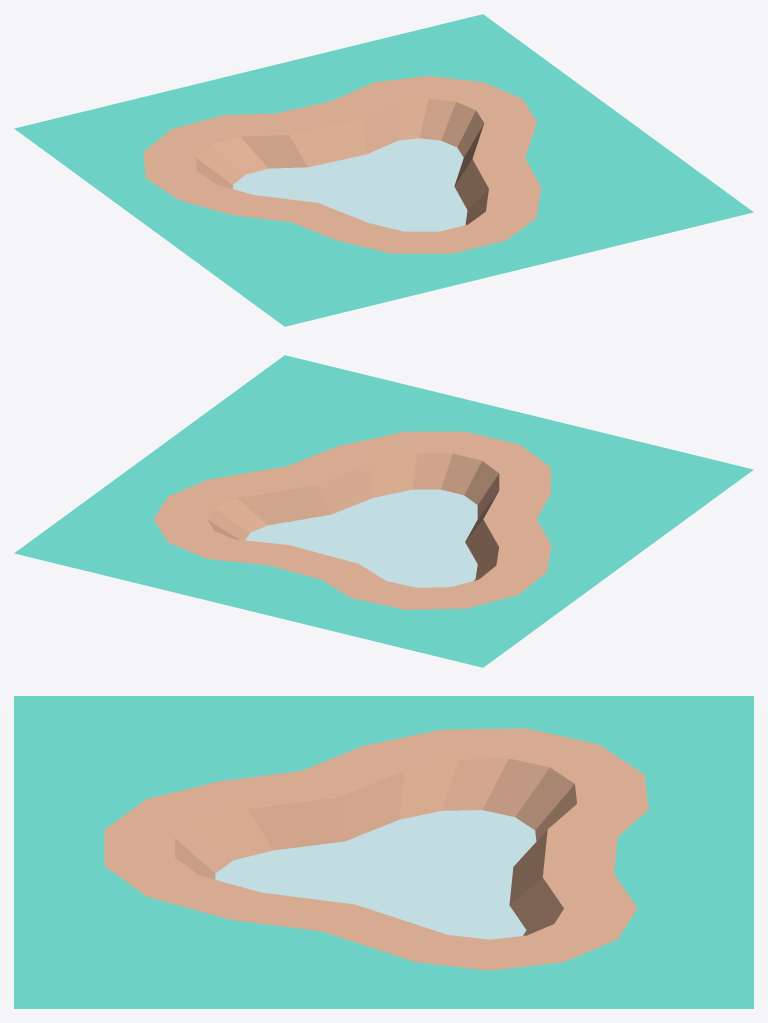
Rendered from ground_riverTile.glb.
3 renders of one model, top to bottom at view 1: azimuth 30°, elevation 25°; view 2: azimuth 150°, elevation 25°; view 3: azimuth 270°, elevation 25°, orthographic. The views are drawn at different scales.
Visible parts, largest first — view 1: ground_riverTile; view 2: ground_riverTile; view 3: ground_riverTile.
Boxes of the visible parts, x1,y1,x2,y2 form: ground_riverTile: (14,14,753,326); ground_riverTile: (14,355,753,667); ground_riverTile: (14,696,753,1008).
Bounding box in the file's own units: 1 × 0.05 × 1.
